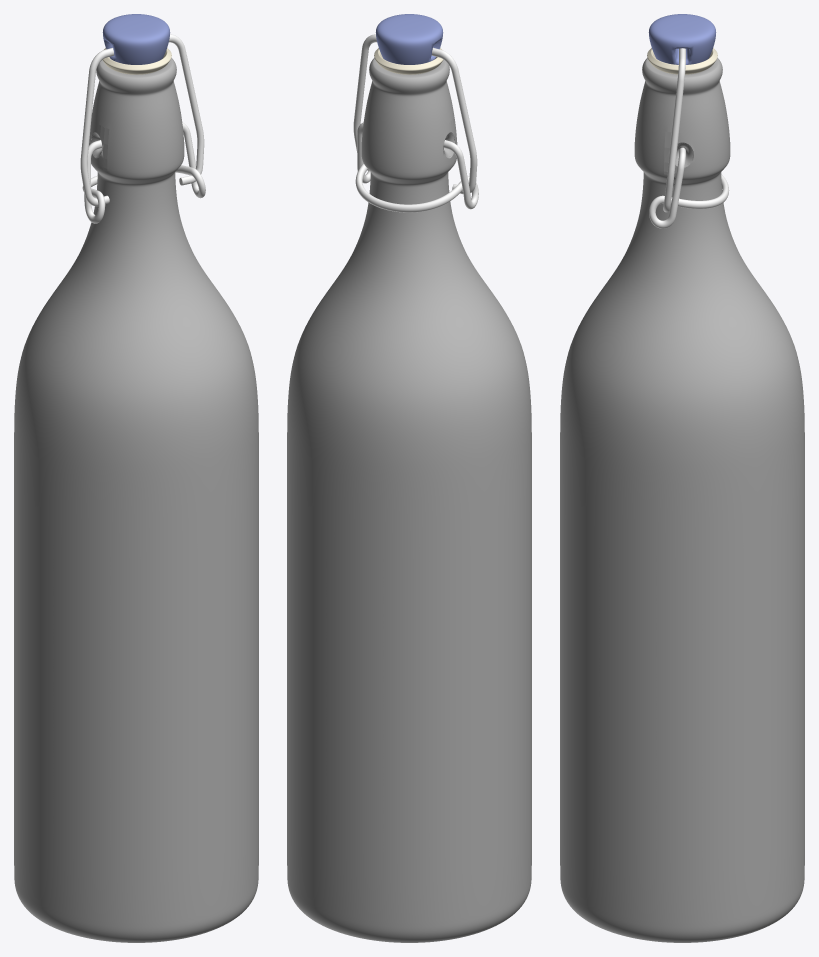
File: Oil_Bottle.fbx
The picture shows the model from 3 angles, left to right: view 1: azimuth 30°, elevation 25°; view 2: azimuth 150°, elevation 25°; view 3: azimuth 270°, elevation 25°; orthographic projection.
Parts seen in each view (by area): view 1: 10 Bottle; view 2: 10 Bottle; view 3: 10 Bottle.
Part boxes in pixels (x1=…): 10 Bottle: x1=14, y1=14, x2=258, y2=942; 10 Bottle: x1=287, y1=14, x2=531, y2=942; 10 Bottle: x1=560, y1=14, x2=804, y2=942.
Size of the model in its own units: 3.47 by 13.64 by 3.47.
